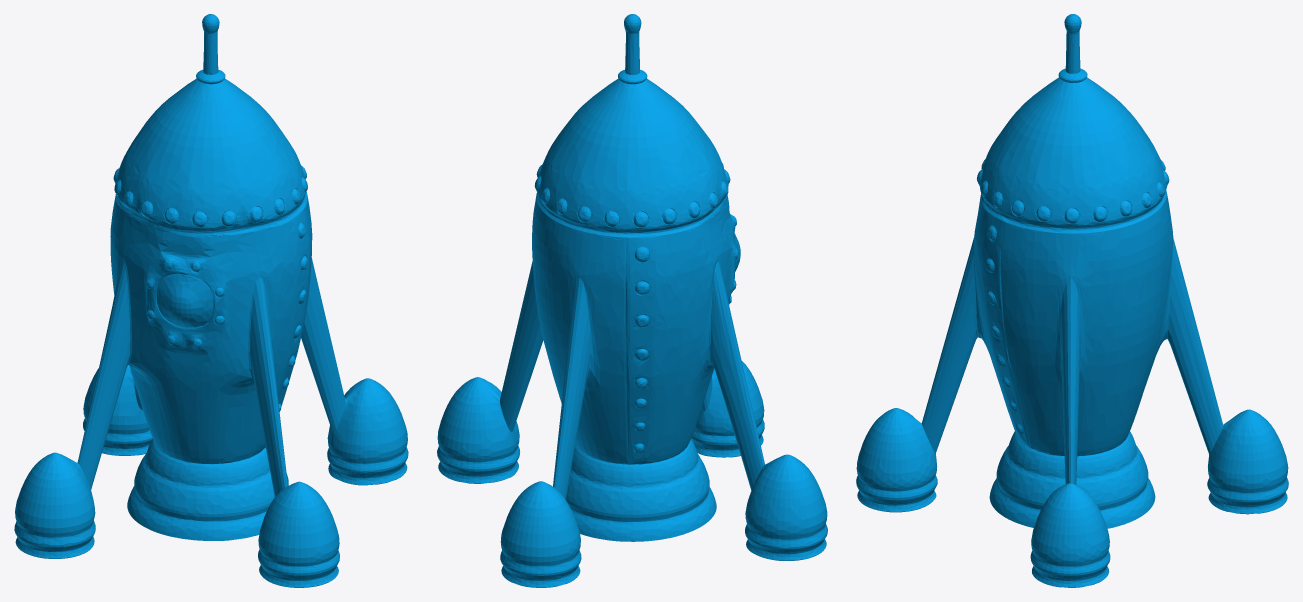
The model's file is RocketShip.glb.
3 views of the same model, side by side, from view 1: azimuth 30°, elevation 25°; view 2: azimuth 150°, elevation 25°; view 3: azimuth 270°, elevation 25° (orthographic).
Bounding box in the file's own units: 0.0958 × 0.118 × 0.0958.
